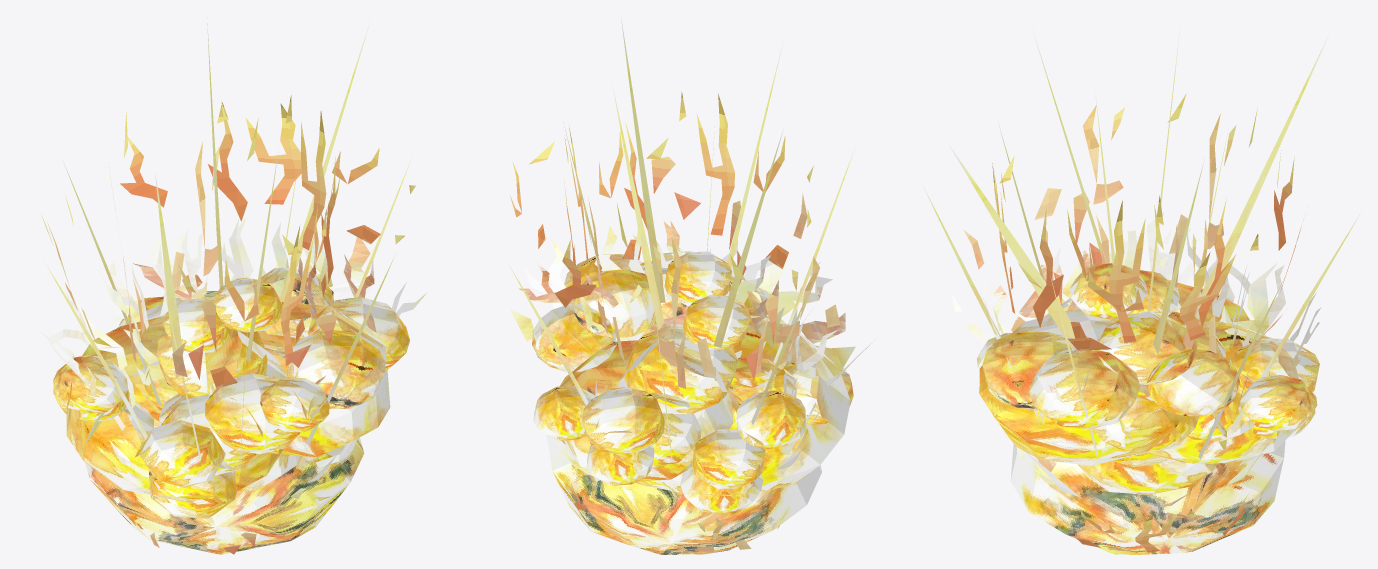
Rendered from timeframe_explosion.glb.
The picture shows the model from 3 angles, left to right: view 1: azimuth 30°, elevation 25°; view 2: azimuth 150°, elevation 25°; view 3: azimuth 270°, elevation 25°; orthographic projection. The views are drawn at different scales.
Visible parts, largest first — view 1: MSAM_Explosion_1_KivikausiMajaMat; view 2: MSAM_Explosion_1_KivikausiMajaMat; view 3: MSAM_Explosion_1_KivikausiMajaMat.
Boxes of the visible parts, x1,y1,x2,y2 form: MSAM_Explosion_1_KivikausiMajaMat: (39, 17, 427, 554); MSAM_Explosion_1_KivikausiMajaMat: (507, 17, 875, 554); MSAM_Explosion_1_KivikausiMajaMat: (923, 27, 1360, 554).
Bounding box in the file's own units: 6.05 × 7.48 × 6.04.
Materials: 1 (1 with a texture image).
